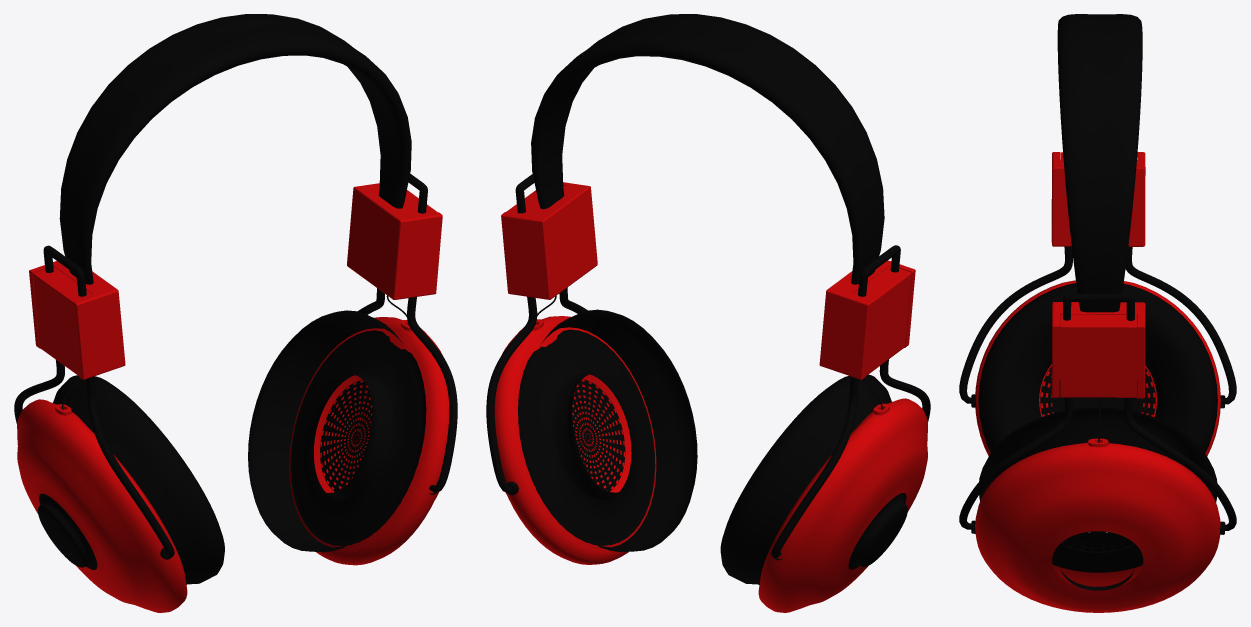
File: Headphones low poly.obj
The picture shows the model from 3 angles, left to right: view 1: azimuth 30°, elevation 25°; view 2: azimuth 150°, elevation 25°; view 3: azimuth 270°, elevation 25°; orthographic projection. The views are drawn at different scales.
Visible parts, largest first — view 1: Cilindro.001, Cilindro.002, Curva_NURBS.053, Cubo.002, Cubo.221, Cubo.001, Curva_NURBS.045, Curva_NURBS.002; view 2: Cilindro.001, Cilindro.002, Curva_NURBS.053, Cubo.002, Cubo.221, Cubo.001, Curva_NURBS.045, Curva_NURBS.002; view 3: Cilindro.001, Curva_NURBS.053, Cilindro.002, Cubo.003, Curva_NURBS.002, Curva_NURBS.045, Cubo.221, Cubo.002.
Part boxes in pixels (x1=…): Cilindro.001: x1=248, y1=310, x2=449, y2=565; Cilindro.002: x1=17, y1=375, x2=224, y2=612; Curva_NURBS.053: x1=59, y1=14, x2=411, y2=284; Cubo.002: x1=347, y1=183, x2=442, y2=299; Cubo.221: x1=29, y1=261, x2=125, y2=379; Cubo.001: x1=33, y1=266, x2=92, y2=375; Curva_NURBS.045: x1=14, y1=245, x2=174, y2=557; Curva_NURBS.002: x1=357, y1=173, x2=457, y2=492; Cilindro.001: x1=494, y1=309, x2=697, y2=564; Cilindro.002: x1=720, y1=374, x2=927, y2=612; Curva_NURBS.053: x1=531, y1=14, x2=884, y2=284; Cubo.002: x1=501, y1=182, x2=597, y2=299; Cubo.221: x1=819, y1=260, x2=915, y2=379; Cubo.001: x1=852, y1=265, x2=911, y2=375; Curva_NURBS.045: x1=771, y1=245, x2=930, y2=558; Curva_NURBS.002: x1=486, y1=174, x2=587, y2=493; Cilindro.001: x1=971, y1=407, x2=1225, y2=612; Curva_NURBS.053: x1=1057, y1=14, x2=1142, y2=312; Cilindro.002: x1=971, y1=280, x2=1225, y2=456; Cubo.003: x1=1060, y1=314, x2=1136, y2=397; Curva_NURBS.002: x1=959, y1=293, x2=1236, y2=530; Curva_NURBS.045: x1=959, y1=153, x2=1236, y2=404; Cubo.221: x1=1051, y1=152, x2=1145, y2=246; Cubo.002: x1=1051, y1=302, x2=1145, y2=398.
Bounding box in the file's own units: 0.7321 × 0.9837 × 0.4621.
